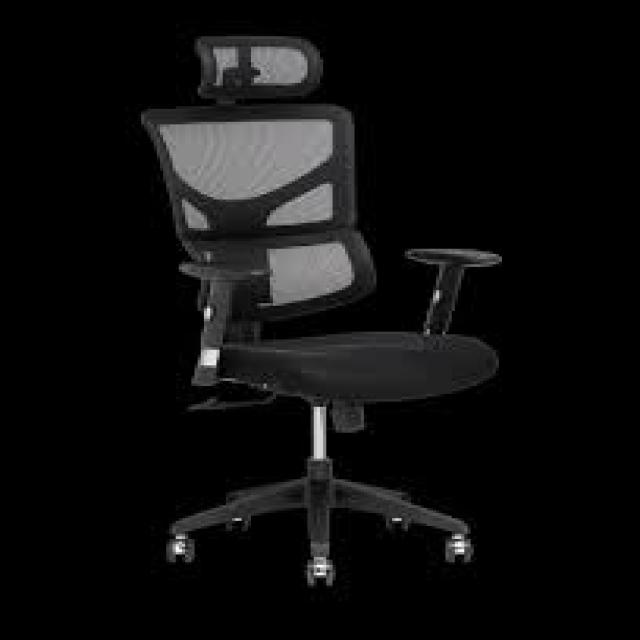chair: (23, 11, 555, 627)
